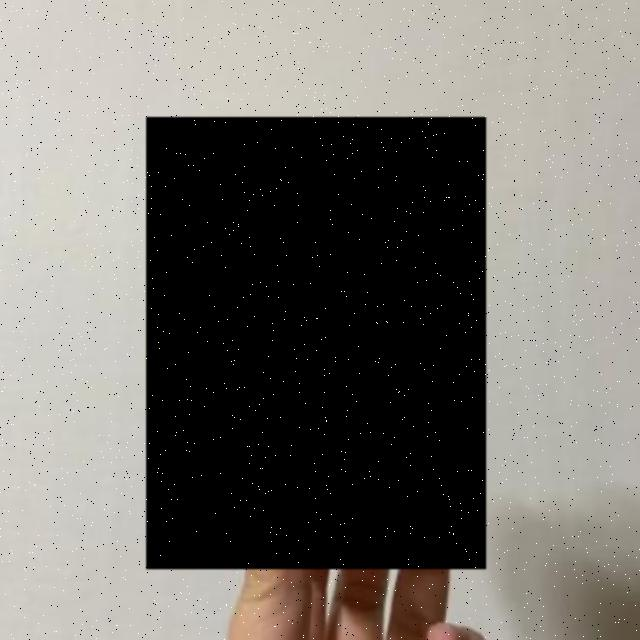Capsicum: (146, 116, 486, 570)
